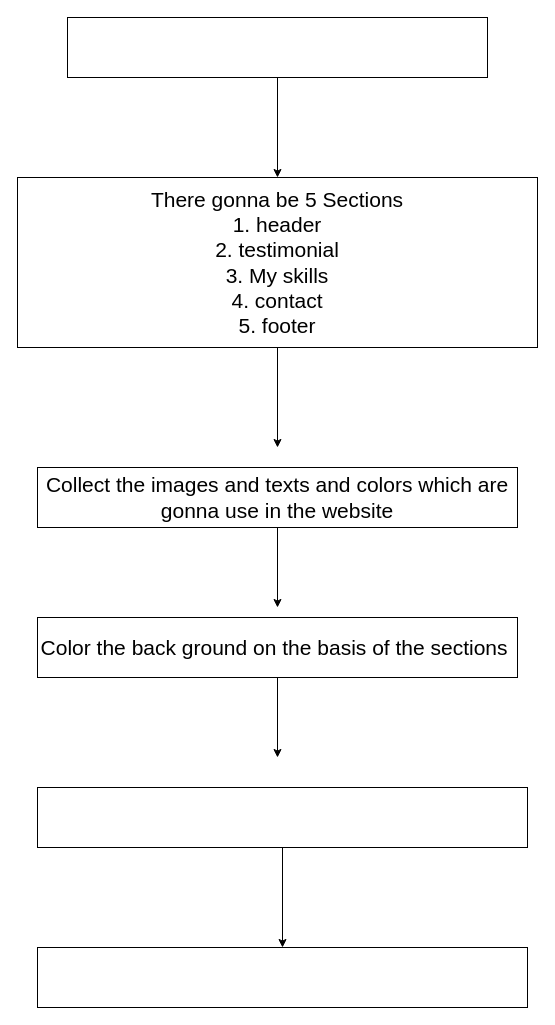
Some shapes in this 555 by 1025 pixel diagram are drawn without their labels. The centre of each missing label's shape, as x and y in pixels:
Add the images and texts in the website: [282,817]
Create sections for different parts: [277,47]
